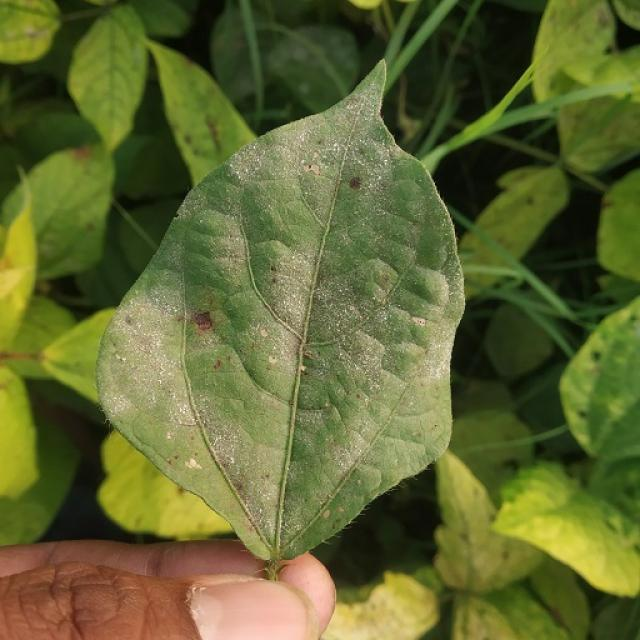Blackgram: (98, 61, 462, 558)
Powdery_Mildew: (282, 189, 403, 354), (380, 277, 457, 425), (254, 114, 360, 200), (309, 139, 398, 234), (229, 317, 314, 397), (321, 309, 393, 398), (229, 480, 286, 547), (127, 331, 178, 403), (319, 252, 372, 318), (269, 254, 311, 334), (130, 273, 179, 337), (408, 320, 451, 390), (326, 289, 369, 337), (331, 96, 377, 138), (105, 365, 141, 416), (319, 421, 357, 469), (205, 423, 246, 467), (228, 146, 273, 183), (271, 281, 303, 325), (171, 194, 200, 232), (446, 275, 463, 318), (175, 397, 193, 421), (217, 451, 234, 469), (231, 166, 244, 179), (411, 316, 426, 327), (115, 354, 126, 364), (259, 327, 268, 338), (311, 164, 320, 174), (322, 509, 331, 519), (268, 355, 277, 364), (312, 151, 320, 160), (337, 505, 345, 514), (372, 295, 380, 303), (229, 456, 236, 464), (166, 432, 173, 440), (258, 506, 264, 515), (300, 365, 306, 373)
